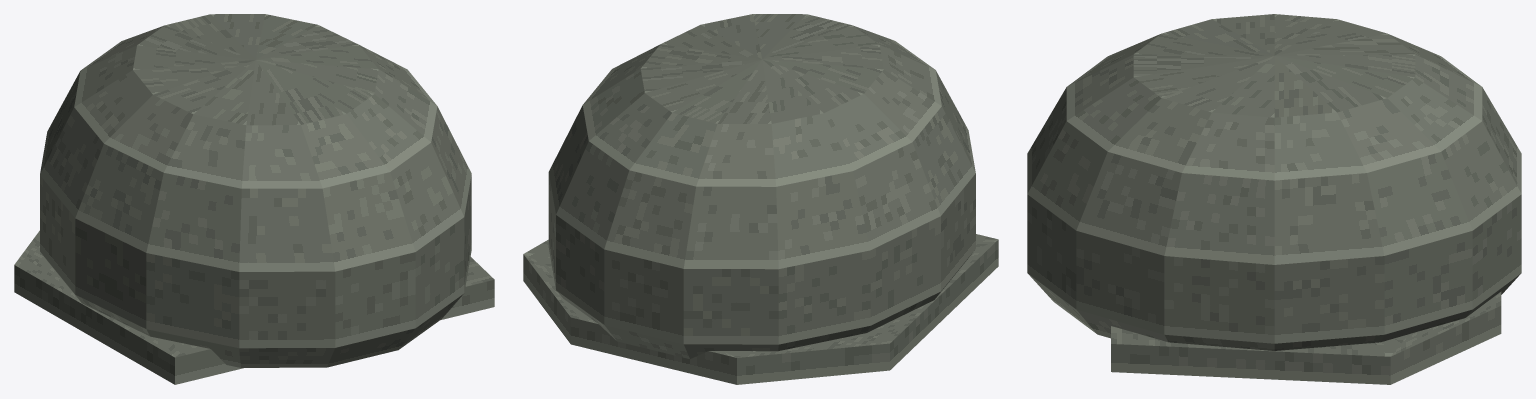
Rendered from helmet_army_outdated.glb.
3 views of the same model, side by side, from view 1: azimuth 30°, elevation 25°; view 2: azimuth 150°, elevation 25°; view 3: azimuth 270°, elevation 25° (orthographic). The views are drawn at different scales.
Parts seen in each view (by area): view 1: block_helmet shell, block_helmet rim; view 2: block_helmet shell, block_helmet rim; view 3: block_helmet shell, block_helmet rim.
Boxes of the visible parts, bbox=[...] form: block_helmet shell: bbox=[40, 14, 471, 367]; block_helmet rim: bbox=[14, 230, 494, 384]; block_helmet shell: bbox=[548, 14, 975, 358]; block_helmet rim: bbox=[523, 234, 998, 384]; block_helmet shell: bbox=[1027, 14, 1521, 350]; block_helmet rim: bbox=[1111, 291, 1501, 384].
Size of the model in its own units: 0.2505 by 0.1473 by 0.28.
Materials: 1 (1 with a texture image).
